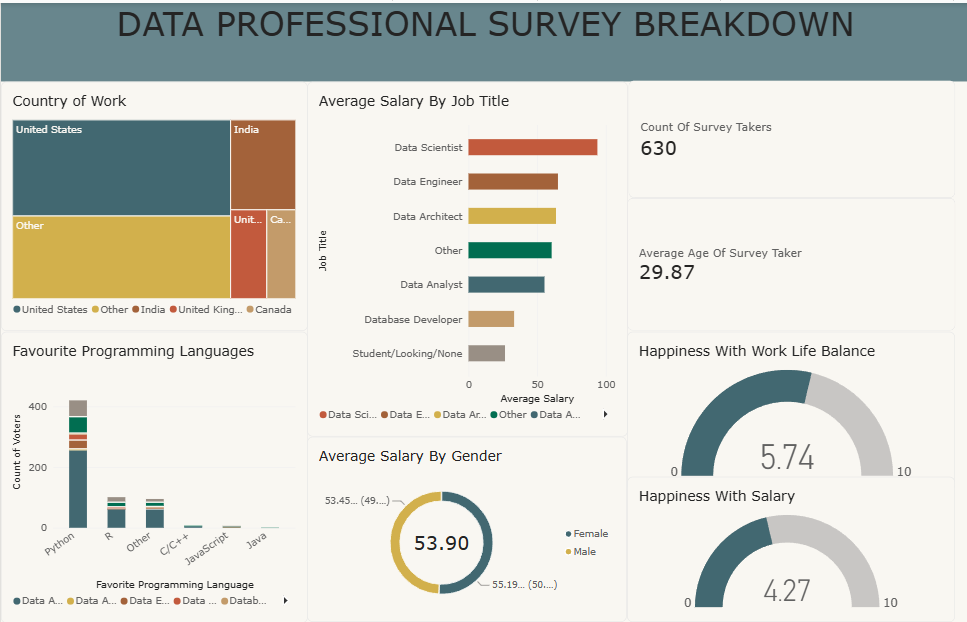

The page's visual inventory and layout, read from the dashboard file:
{"tool":"powerbi","page":{"name":"Page 1","canvas":[1920,1080],"ordinal":0},"visuals":[{"type":"textbox","box":[0,0,1403.3,113.3],"z":0},{"type":"cardVisual","fields":{"Data":["Count(Data Professional Survey.Unique ID)"]},"box":[907.6,112.1,473.3,170],"z":1},{"type":"cardVisual","fields":{"Data":["Avg(Data Professional Survey.Q10 - Current Age)"]},"box":[906.1,281.8,475.8,192.4],"z":2},{"type":"barChart","title":"Average Salary By Job Title","fields":{"Category":["Data Professional Survey.Q1 - Which Title Best Fits your Current Role?.1"],"Series":["Data Professional Survey.Q1 - Which Title Best Fits your Current Role?.1"],"Y":["Avg(Data Professional Survey.Average Salary)"]},"box":[443.9,113.6,463.6,513.6],"z":3},{"type":"columnChart","title":"Favourite Programming Languages","fields":{"Category":["Data Professional Survey.Q5 - Favorite Programming Language.1"],"Series":["Data Professional Survey.Q1 - Which Title Best Fits your Current Role?.1"],"Y":["CountNonNull(Data Professional Survey.Unique ID)"]},"box":[0,475.8,443.9,421.2],"z":4},{"type":"treemap","title":"Country of Work","fields":{"Group":["Data Professional Survey.Q11 - Which Country do you live in?.1"],"Values":["CountNonNull(Data Professional Survey.Q11 - Which Country do you live in?.1)"]},"box":[0,113.6,443.9,360.6],"z":5},{"type":"gauge","title":"Happiness With Work Life Balance","fields":{"MaxValue":["Max(Data Professional Survey.Q6 - How Happy are you in your Current Position with the following? (Work/Life Balance))2"],"MinValue":["Min(Data Professional Survey.Q6 - How Happy are you in your Current Position with the following? (Work/Life Balance))1"],"Y":["Avg(Data Professional Survey.Q6 - How Happy are you in your Current Position with the following? (Work/Life Balance))"]},"box":[906.1,475.8,474.2,230.3],"z":6},{"type":"gauge","title":"Happiness With Salary","fields":{"MaxValue":["Max(Data Professional Survey.Q6 - How Happy are you in your Current Position with the following? (Salary))"],"MinValue":["Min(Data Professional Survey.Q6 - How Happy are you in your Current Position with the following? (Salary))"],"Y":["Avg(Data Professional Survey.Q6 - How Happy are you in your Current Position with the following? (Salary))"]},"box":[906.1,686.4,474.2,210.6],"z":7},{"type":"donutChart","title":"Average Salary By Gender","fields":{"Category":["Data Professional Survey.Q9 - Male/Female?"],"Y":["Avg(Data Professional Survey.Average Salary)"]},"box":[443.9,627.3,462.1,268.2],"z":8}]}

Visuals, with their boxes on the page's 1920x1080 design canvas (x1, y1, x2, y2). These are canvas units, not pixel positions in the 967x622 screenshot, which may show the page scaled, cropped or inside an application window:
textbox: (0,0,1403,113)
cardVisual - Count(Data Professional Survey.Unique ID): (908,112,1381,282)
cardVisual - Avg(Data Professional Survey.Q10 - Current Age): (906,282,1382,474)
"Average Salary By Job Title" barChart: (444,114,908,627)
"Favourite Programming Languages" columnChart: (0,476,444,897)
"Country of Work" treemap: (0,114,444,474)
"Happiness With Work Life Balance" gauge: (906,476,1380,706)
"Happiness With Salary" gauge: (906,686,1380,897)
"Average Salary By Gender" donutChart: (444,627,906,896)
